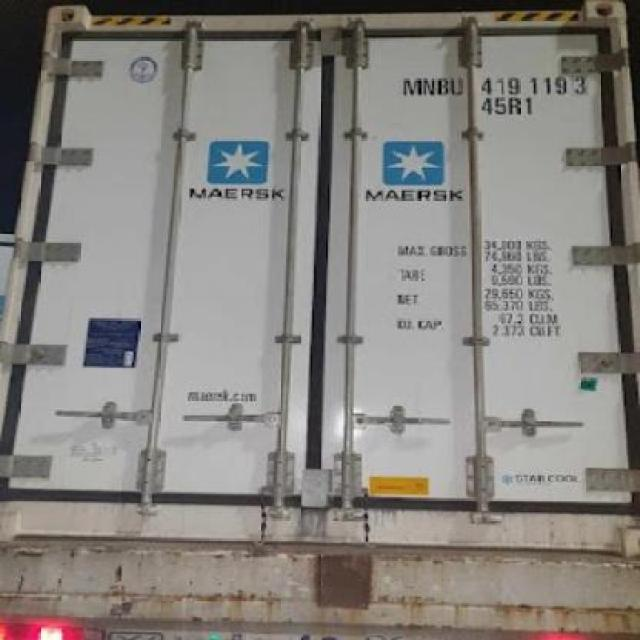ISO: (480, 99, 528, 118)
container_number: (402, 72, 582, 96)
